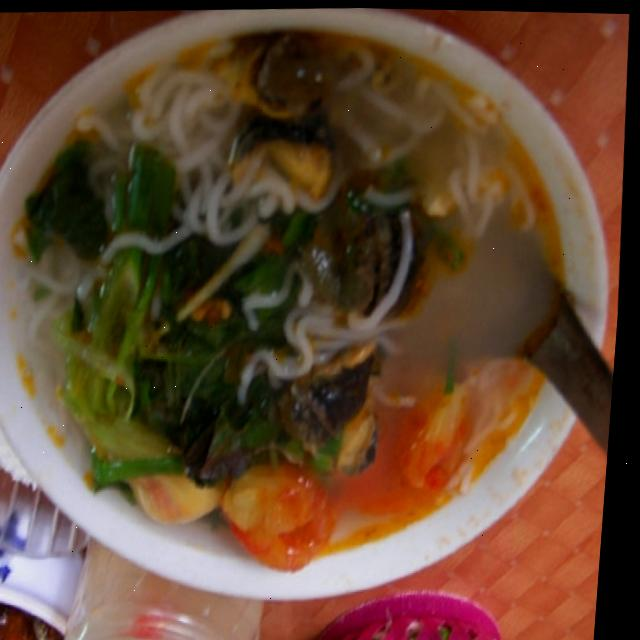面条主食: (0, 0, 625, 610)
